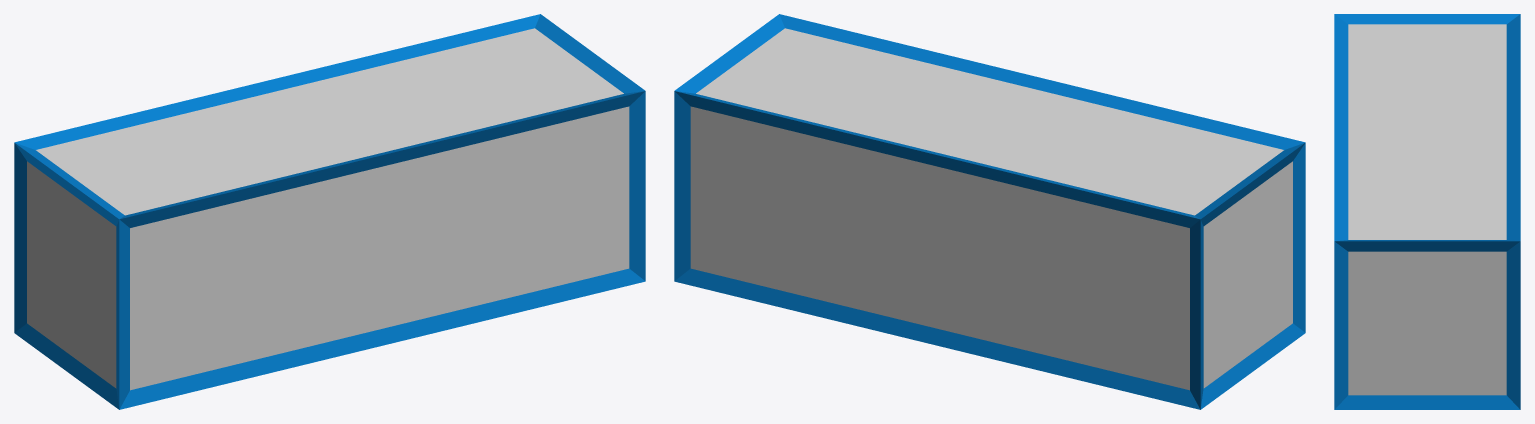
The model's file is FallingPlatform.fbx.
3 renders of one model, left to right at view 1: azimuth 30°, elevation 25°; view 2: azimuth 150°, elevation 25°; view 3: azimuth 270°, elevation 25°, orthographic. The views are drawn at different scales.
Visible parts, largest first — view 1: FallingPlatform, Frame; view 2: FallingPlatform, Frame; view 3: FallingPlatform, Frame.
Part boxes in pixels (left/top/right/bottom): FallingPlatform: left=27, top=28, right=629, bottom=390; Frame: left=14, top=14, right=645, bottom=409; FallingPlatform: left=690, top=28, right=1292, bottom=390; Frame: left=674, top=14, right=1305, bottom=409; FallingPlatform: left=1348, top=24, right=1506, bottom=395; Frame: left=1334, top=14, right=1520, bottom=409.
Bounding box in the file's own units: 306 × 106 × 106.
